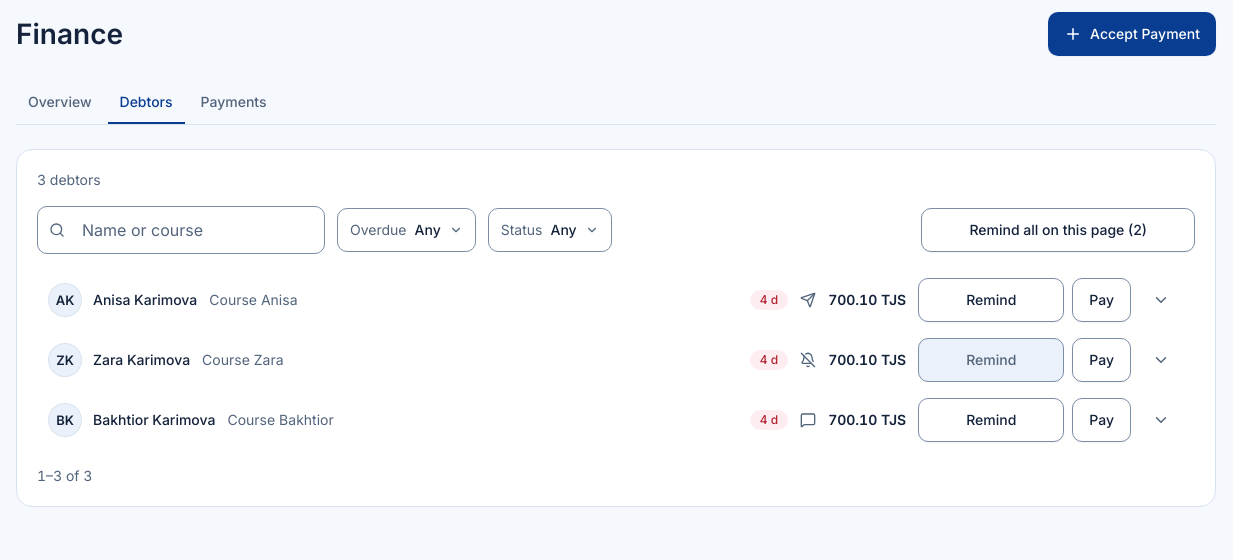
Scenario: Debt reminder controls › sends one student id for a single reminder and reports the queued outcome
Expected: the text "Anisa Karimova" is shown, [93,290,197,310]
Click the button with aria-label "Remind the parent of Anisa Karimova" at (991, 300), box [918,278,1064,322]
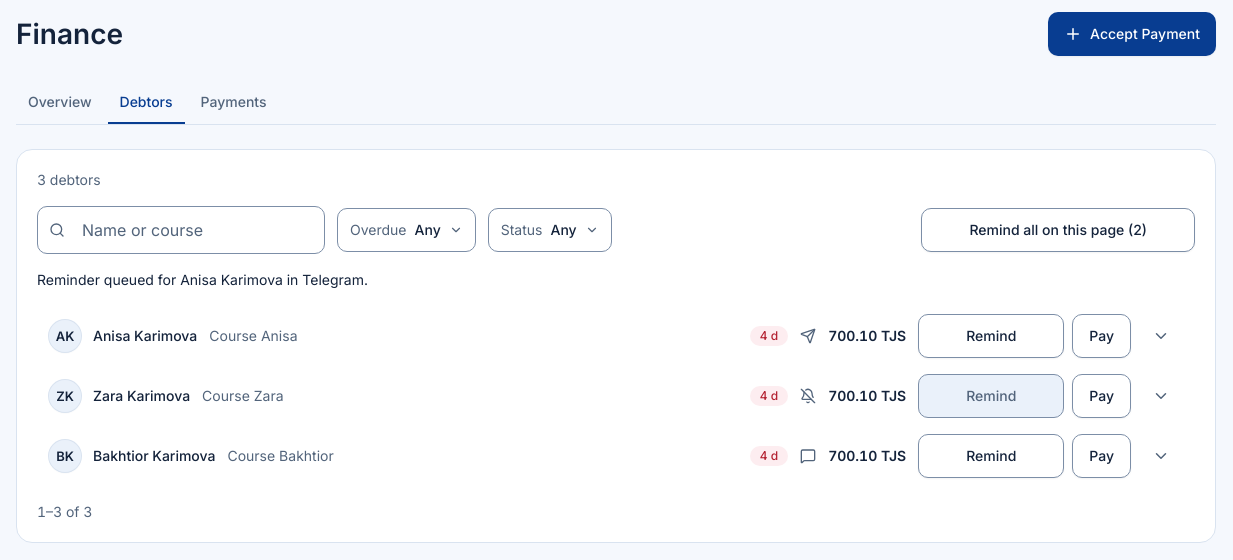
Expected: the text "Reminder queued for Anisa Karimova in Telegram." is shown, [37,271,368,288]
